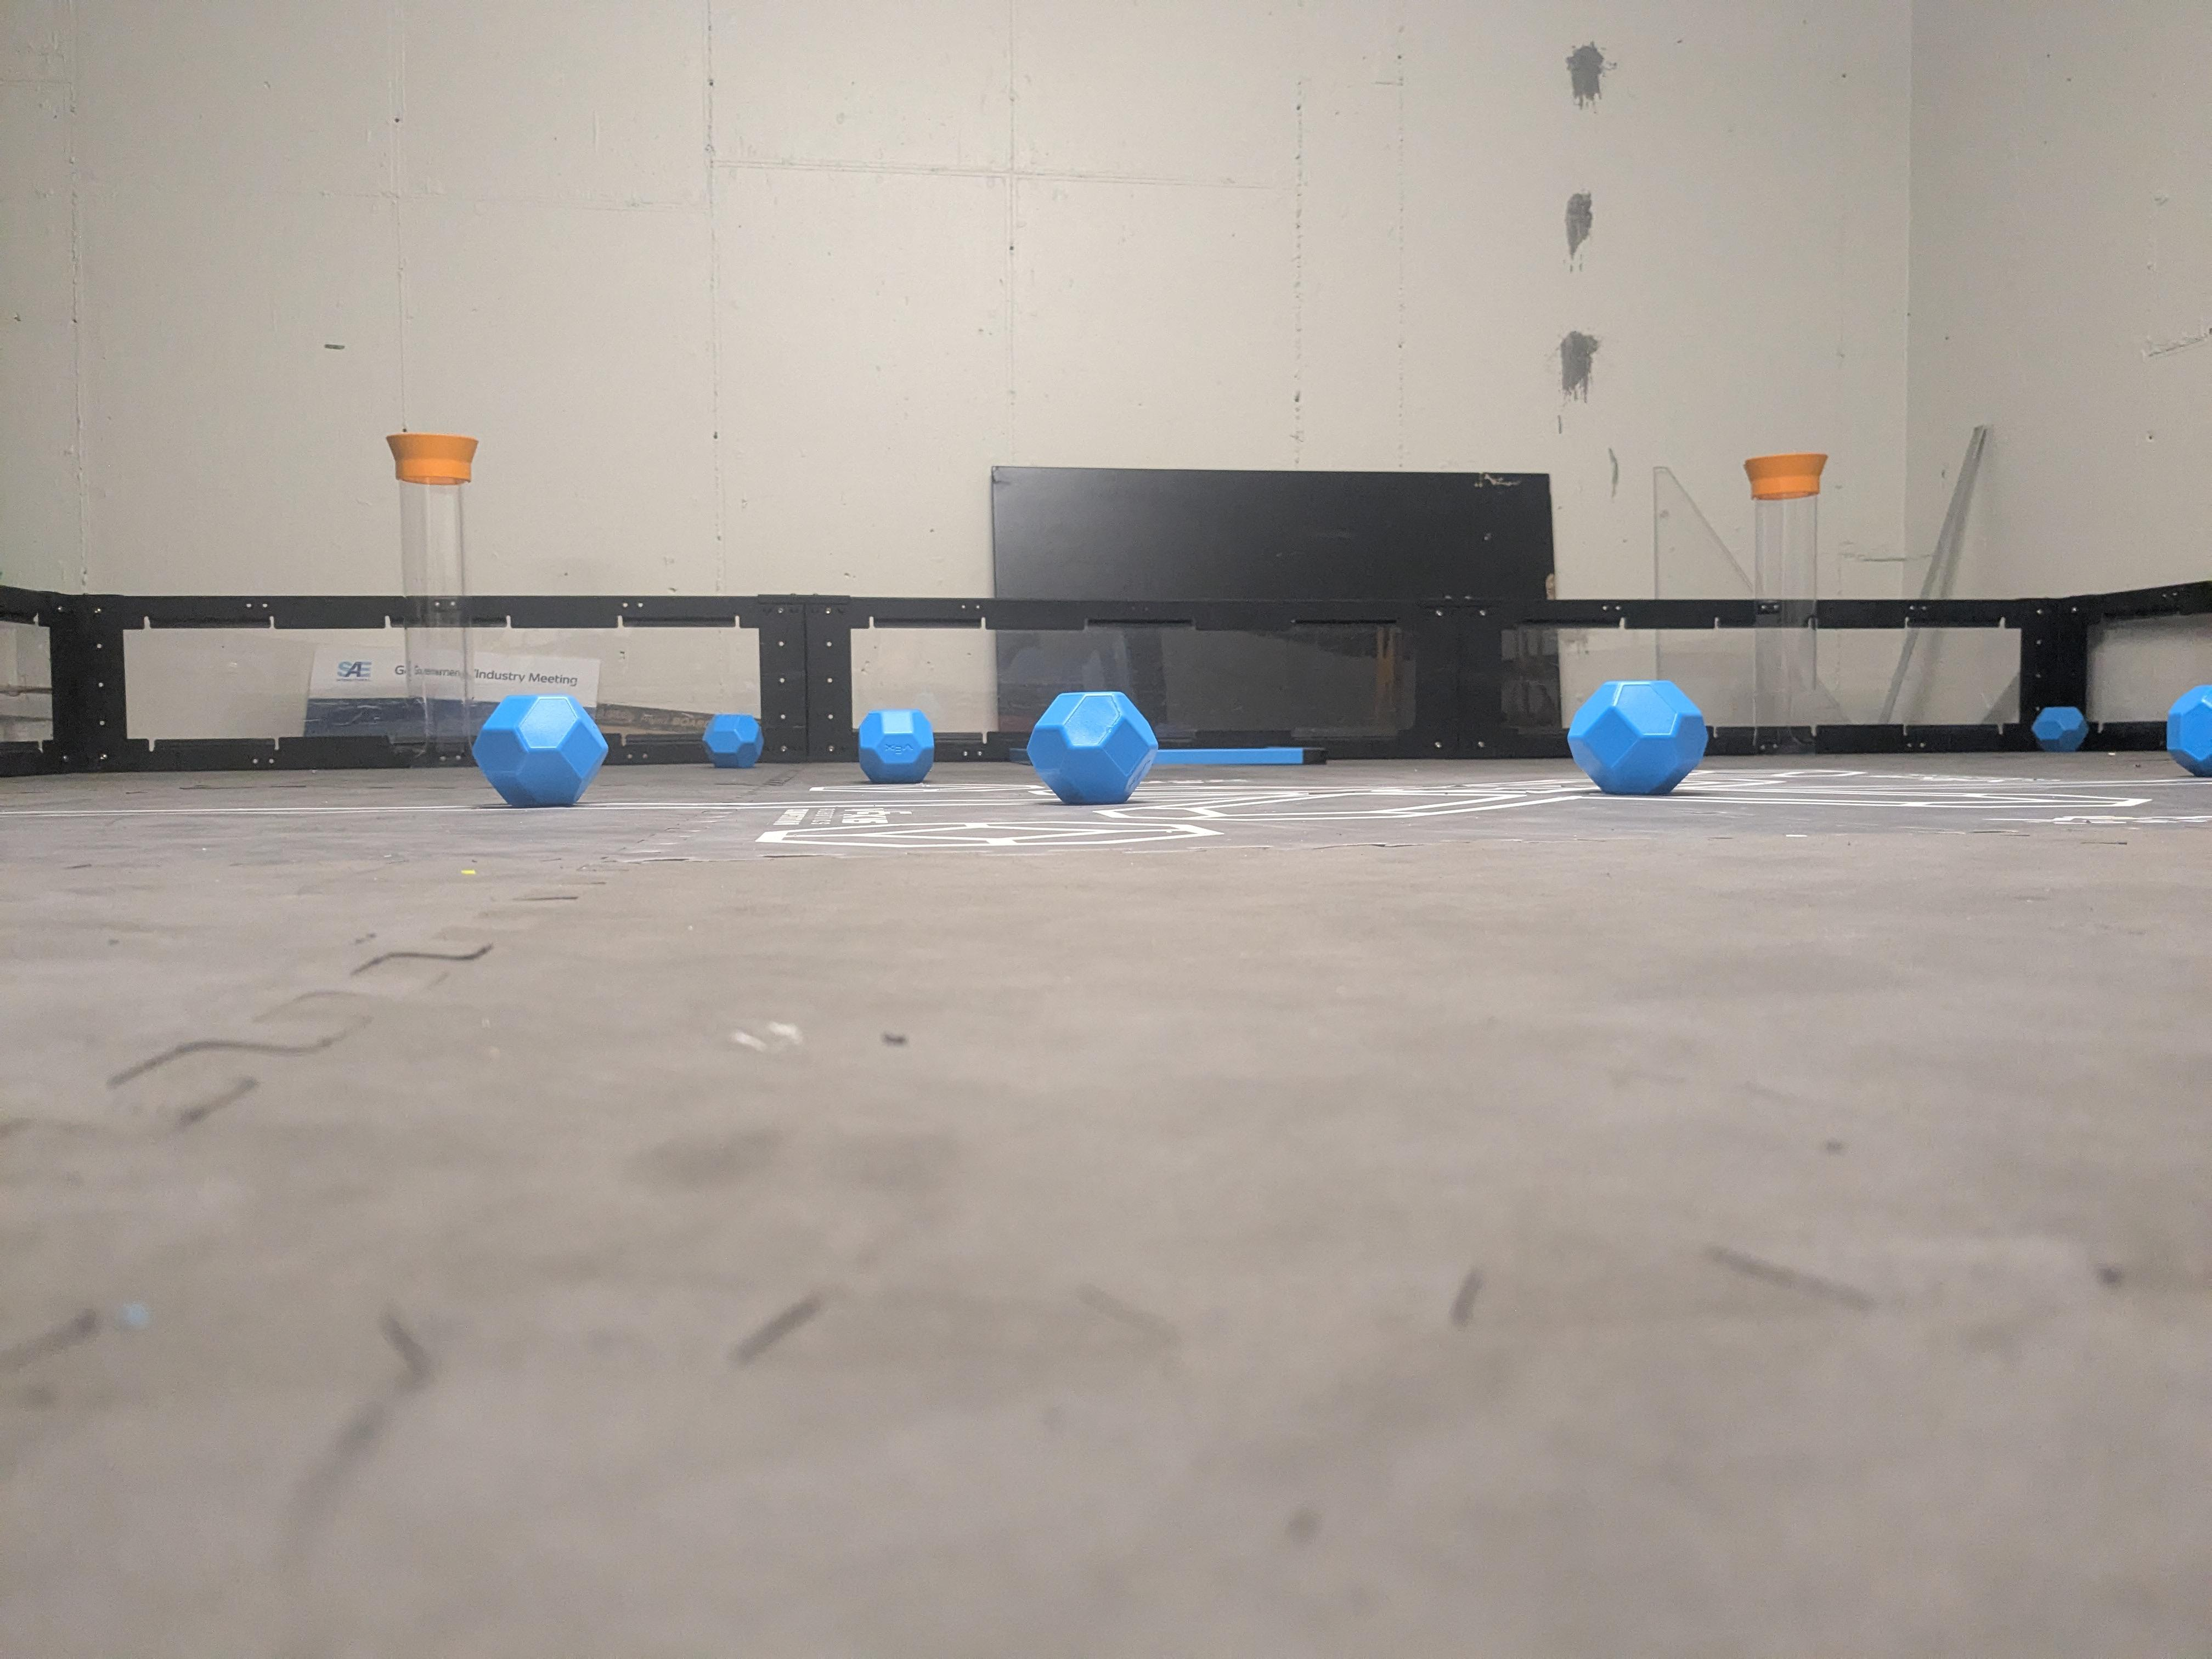Vex-Pieces-BLUE: (1569, 678, 1710, 793), (1026, 692, 1155, 805), (474, 694, 604, 805), (857, 709, 935, 784), (2160, 685, 2207, 777), (704, 713, 763, 769), (2031, 706, 2088, 753)
